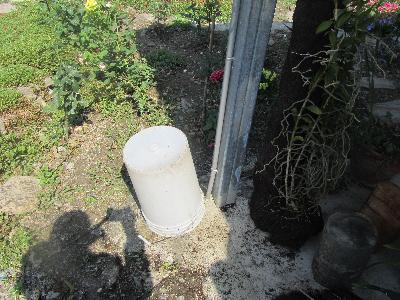bucket: (119, 122, 208, 240)
